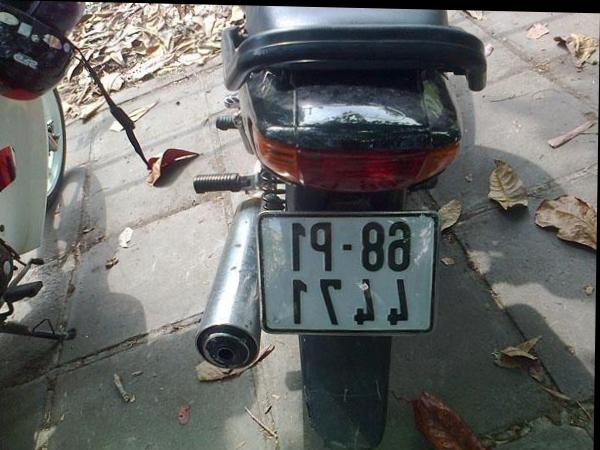License_Plate: (262, 208, 438, 337)
